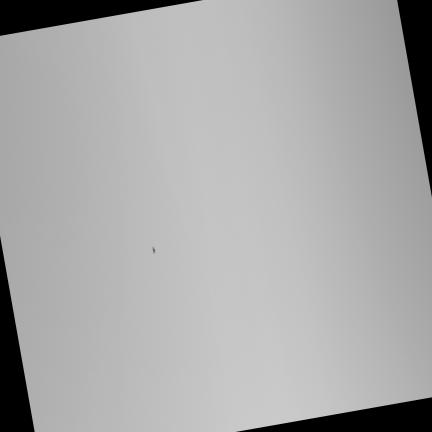Shahed: (151, 244, 156, 254)
